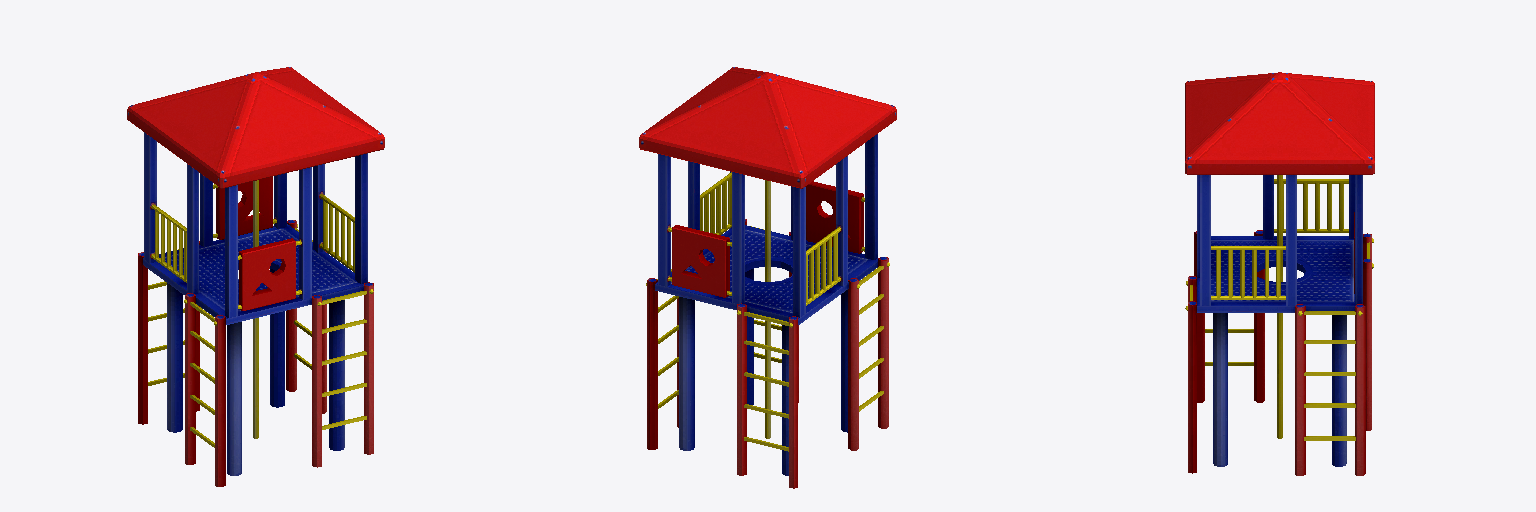
3 renders of one model, left to right at view 1: azimuth 30°, elevation 25°; view 2: azimuth 150°, elevation 25°; view 3: azimuth 270°, elevation 25°, orthographic.
Visible parts, largest first — view 1: lookout; view 2: lookout; view 3: lookout.
Boxes of the visible parts, x1,y1,x2,y2 form: lookout: [127, 67, 384, 486]; lookout: [639, 67, 896, 488]; lookout: [1185, 72, 1374, 475].
Size of the model in its own units: 2.71 by 5.74 by 2.71.
1 materials, 1 textured.